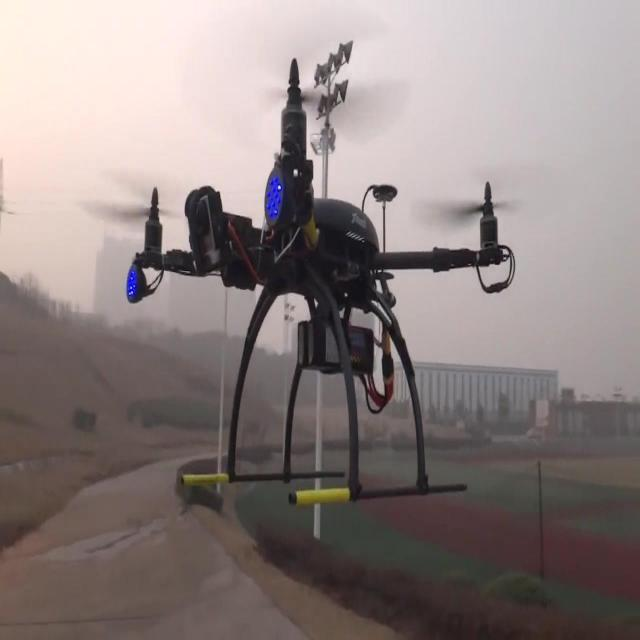UAV: (83, 59, 515, 507)
